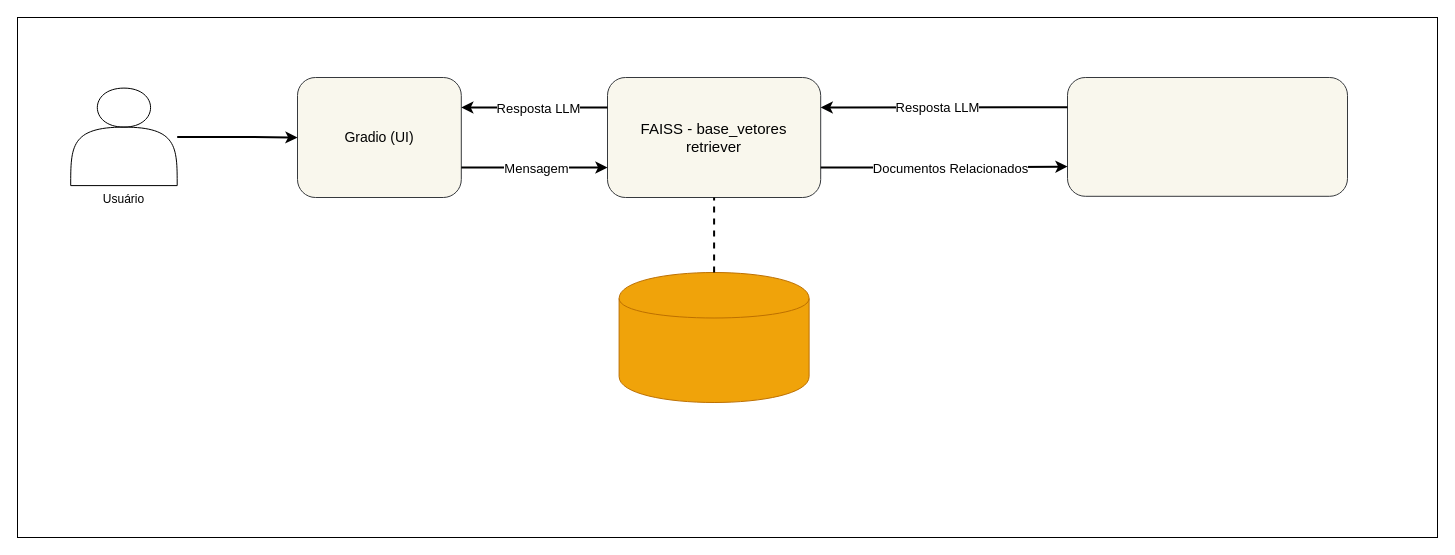
The diagram is 1455 pixels wide and 555 high, and some of its shapes have lost their labels. The centre of each missing label's shape, as x and y in pixels:
"Base de dados (txt)" belongs at (x=713, y=337).
"Chain prompt (context + mensagem) | LLM" belongs at (x=1207, y=136).
